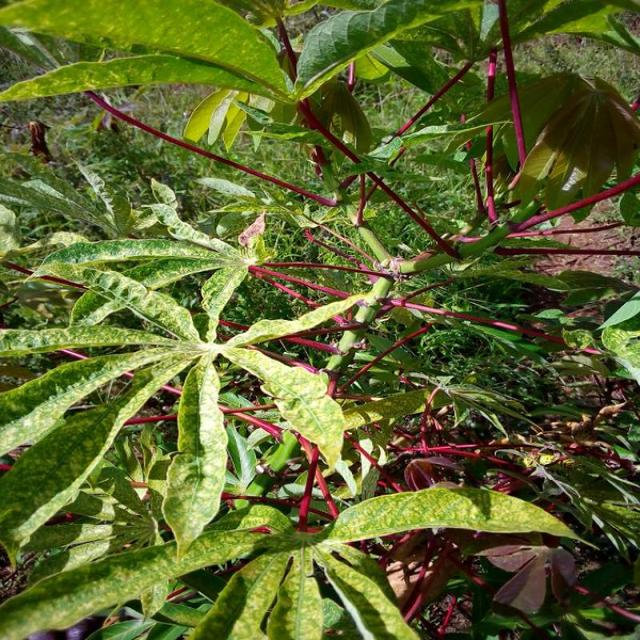cassava leaf: (2, 0, 639, 639), (2, 0, 296, 106), (160, 354, 230, 560)
